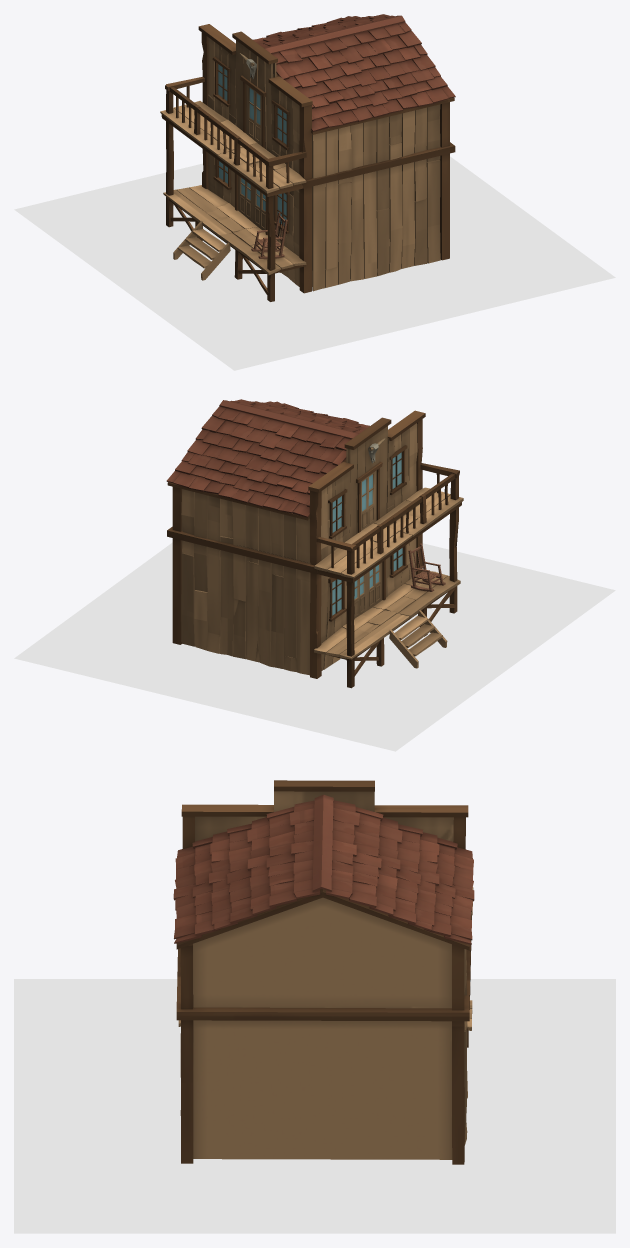
3 renders of one model, top to bottom at view 1: azimuth 30°, elevation 25°; view 2: azimuth 150°, elevation 25°; view 3: azimuth 270°, elevation 25°, orthographic. The views are drawn at different scales.
Visible parts, largest first — view 1: hotel.001_0, Plane_1; view 2: hotel.001_0, Plane_1; view 3: hotel.001_0, Plane_1.
Part boxes in pixels (left/top/right/bottom): hotel.001_0: left=160, top=14, right=455, bottom=301; Plane_1: left=14, top=156, right=615, bottom=370; hotel.001_0: left=166, top=399, right=463, bottom=688; Plane_1: left=14, top=542, right=615, bottom=751; hotel.001_0: left=173, top=780, right=474, bottom=1164; Plane_1: left=14, top=979, right=615, bottom=1233.
Size of the model in its own units: 14.3 by 7.67 by 14.3.
2 materials, 1 textured.
